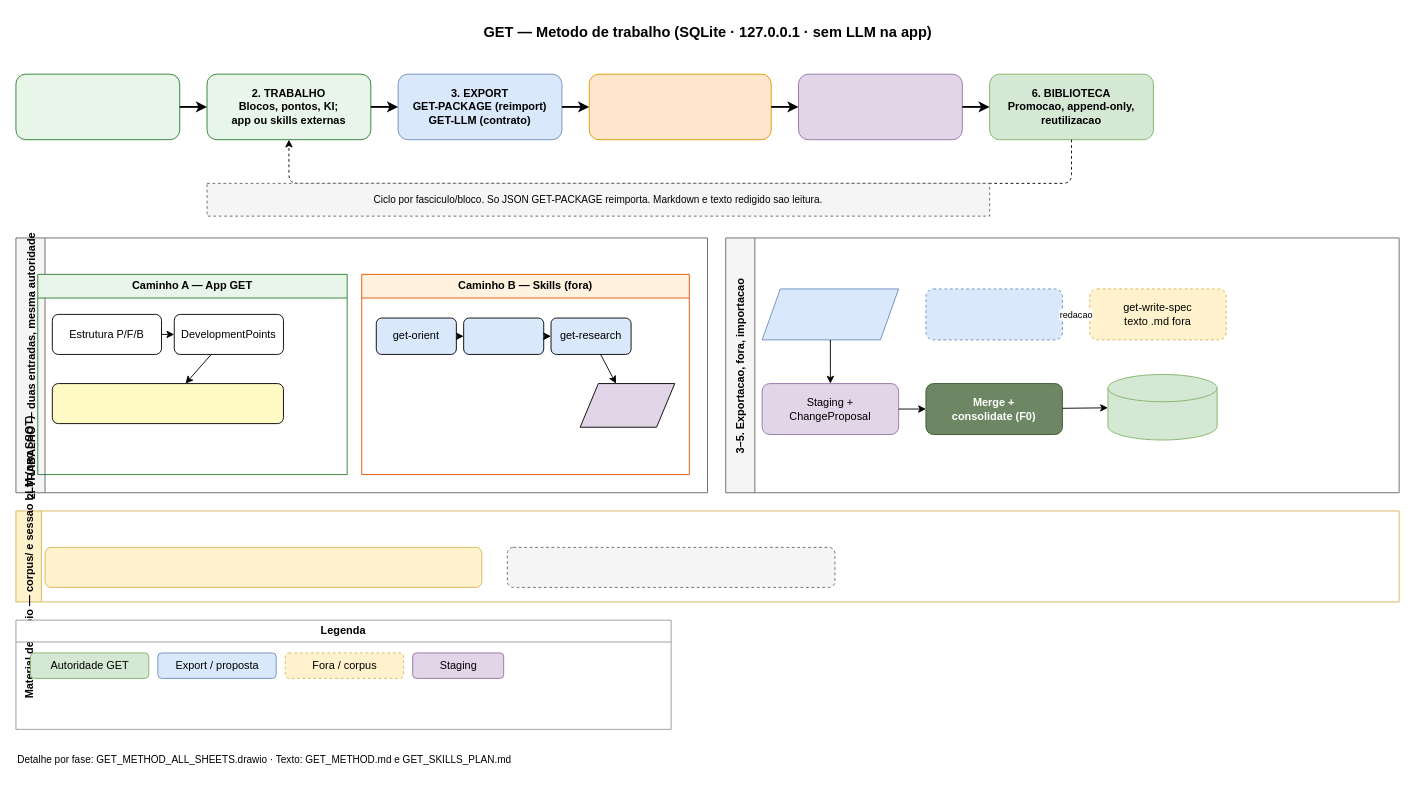
This 1415x799 diagram has some shape labels left out. Each missing label, with the centre of its shape:
1. INICIO Workspace, biblioteca, projecto, baseline: pixel 97 106
4. FORA DO GET LLM, skills, corpus (nao escreve SQLite): pixel 679 106
5. IMPORT Staging, merge, revisao humana: pixel 880 106
Backup workspace antes de import / export de risco: pixel 670 566
corpus/: normas, site, PDF, manifest · Reference.internal_location: pixel 263 566
draft para ready: pixel 167 403
Export GET-LLM (contrato, nao redige): pixel 993 314
get-grill: pixel 503 335
GET-PACKAGE: pixel 627 405
GET-PACKAGE roundtrip JSON: pixel 830 314
SQLite fonte de verdade: pixel 1162 407
